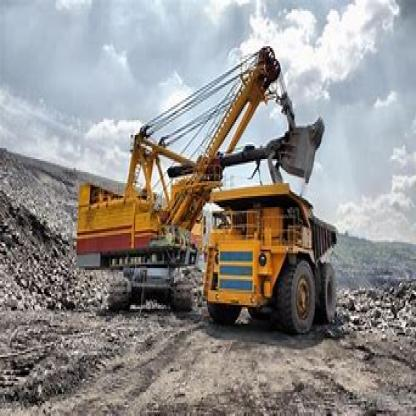dump_truck: (207, 172, 360, 338)
